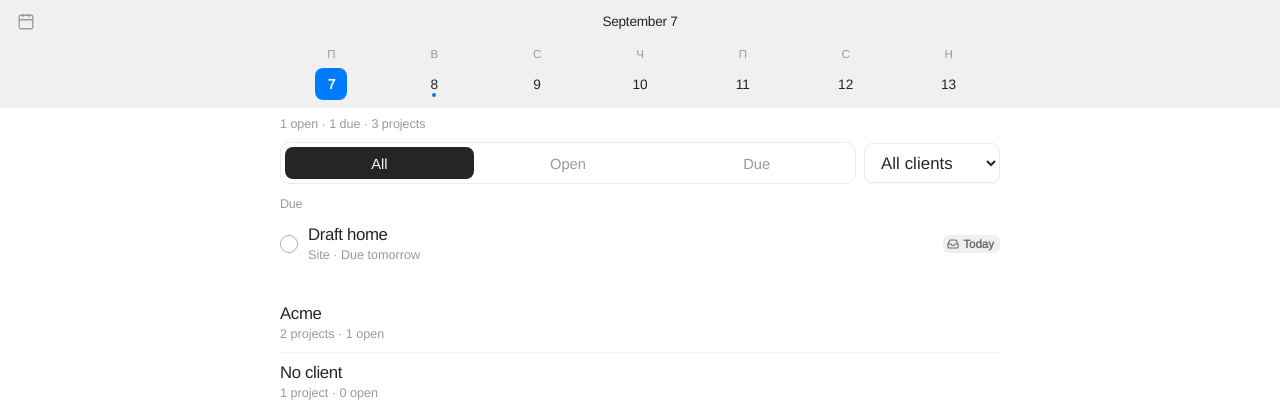
Test: ProjectsHub › opens a due day from the calendar
The width and height of the screenshot is (1280, 417).
Click the button "8" at (434, 84), box [418, 68, 450, 100]
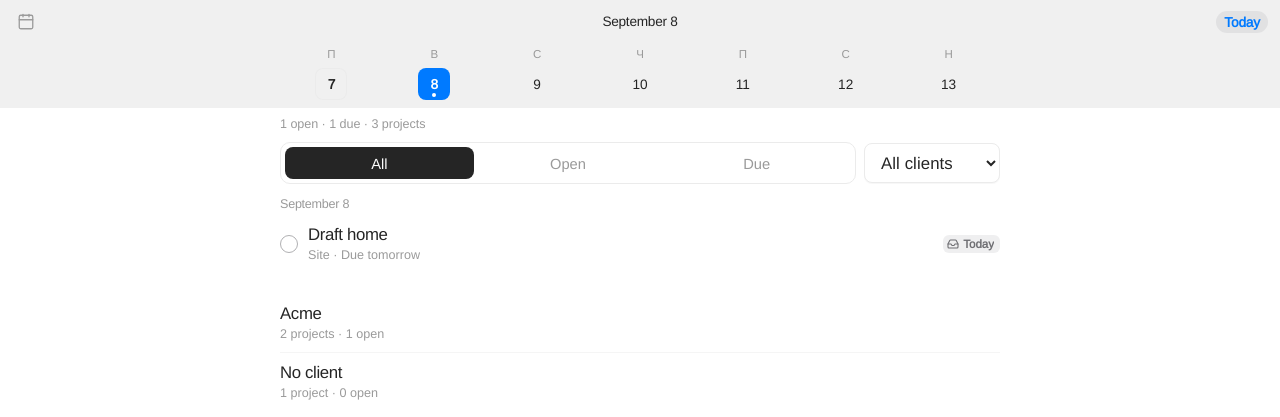
Expected: the text "Draft home" is shown, [308, 225, 388, 244]
Now the heading "September 8" is shown, box [280, 196, 349, 211]
Now the 1st button "Today" is shown, box [1216, 10, 1268, 32]
